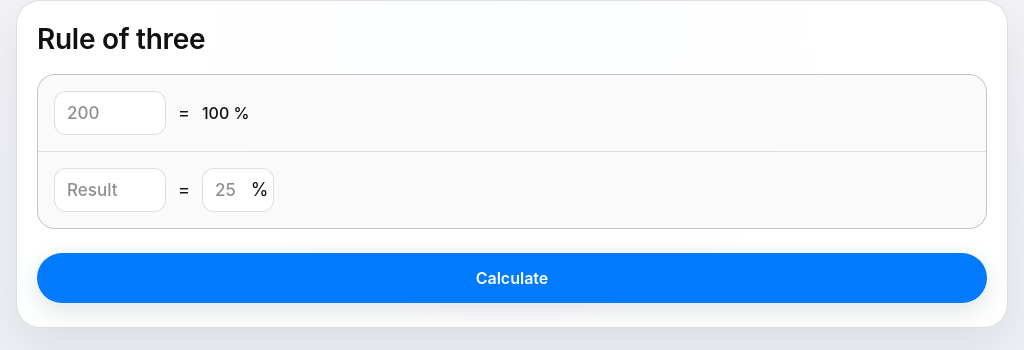
F5 RuleOfThreeScreen › formats decimal results cleanly
Type "12.5" into the field named "base value". click: (110, 113)
box: x1=54 y1=91 x2=166 y2=135
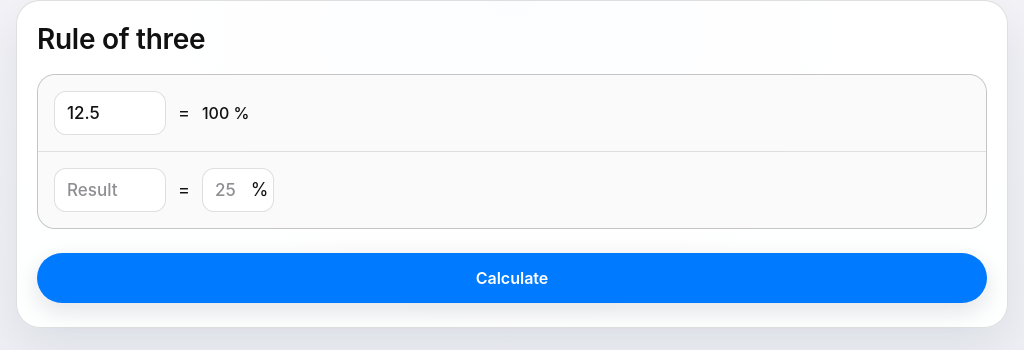
Type "10" into the field named "percentage". click: (238, 190)
box: x1=202 y1=168 x2=274 y2=212
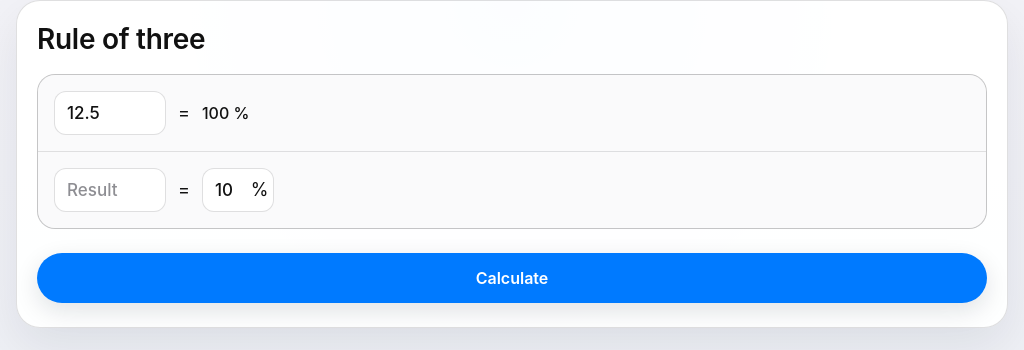
Click the button "Calculate". click: click(512, 278)
box: x1=37 y1=253 x2=987 y2=303
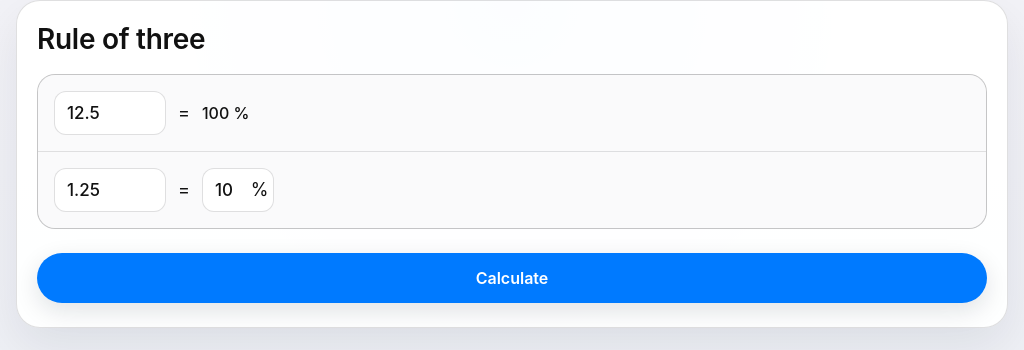
Check: the 2nd field named "Result" holds "1.25", box x1=54 y1=168 x2=166 y2=212
